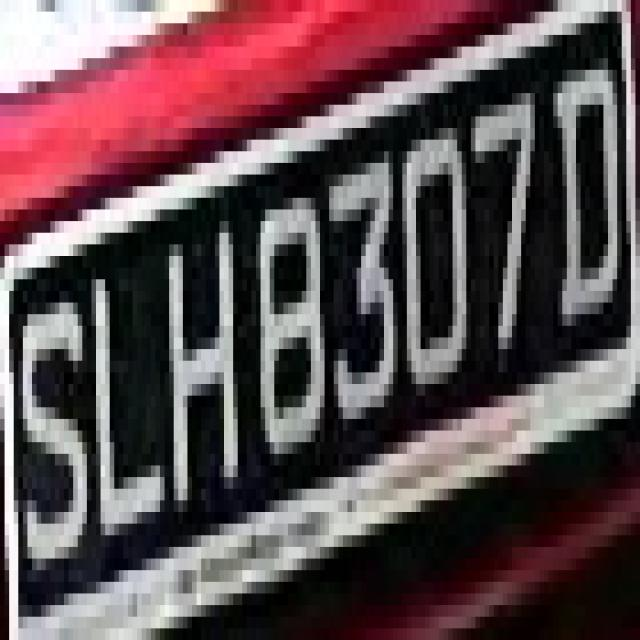0: (393, 116, 466, 396)
3: (306, 128, 402, 465)
7: (462, 93, 539, 396)
8: (256, 174, 334, 488)
D: (553, 47, 622, 360)
H: (160, 210, 242, 524)
L: (78, 256, 160, 547)
S: (4, 233, 87, 605)
